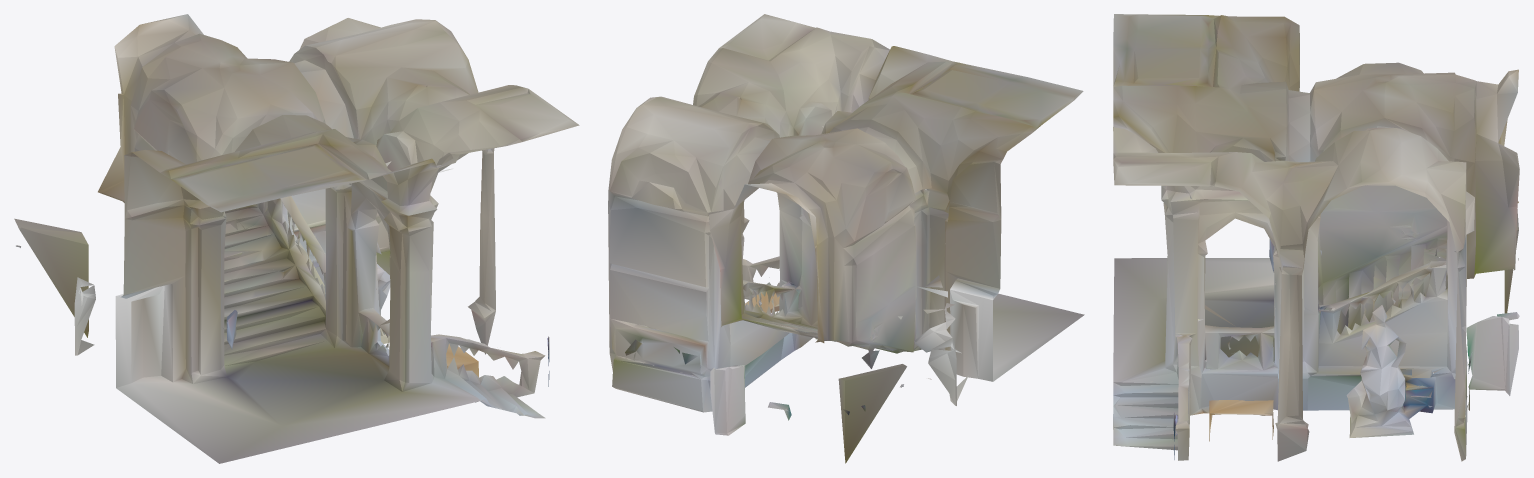
3 views of the same model, side by side, from view 1: azimuth 30°, elevation 25°; view 2: azimuth 150°, elevation 25°; view 3: azimuth 270°, elevation 25° (orthographic). The views are drawn at different scales.
Bounding box in the file's own units: 10 × 7.89 × 10.02.
